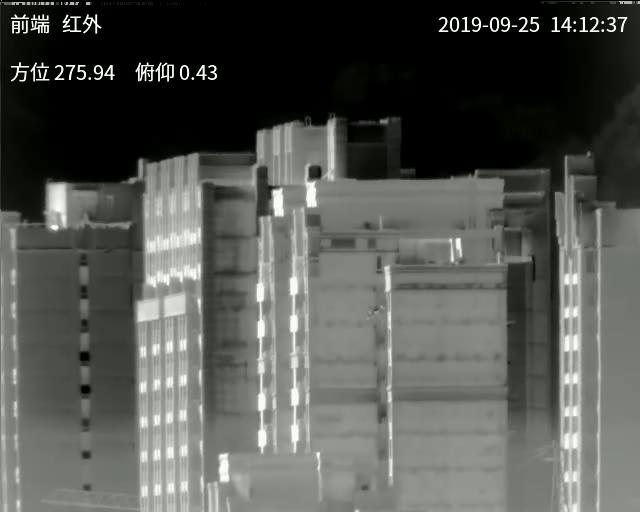uav: (363, 302, 387, 320)
